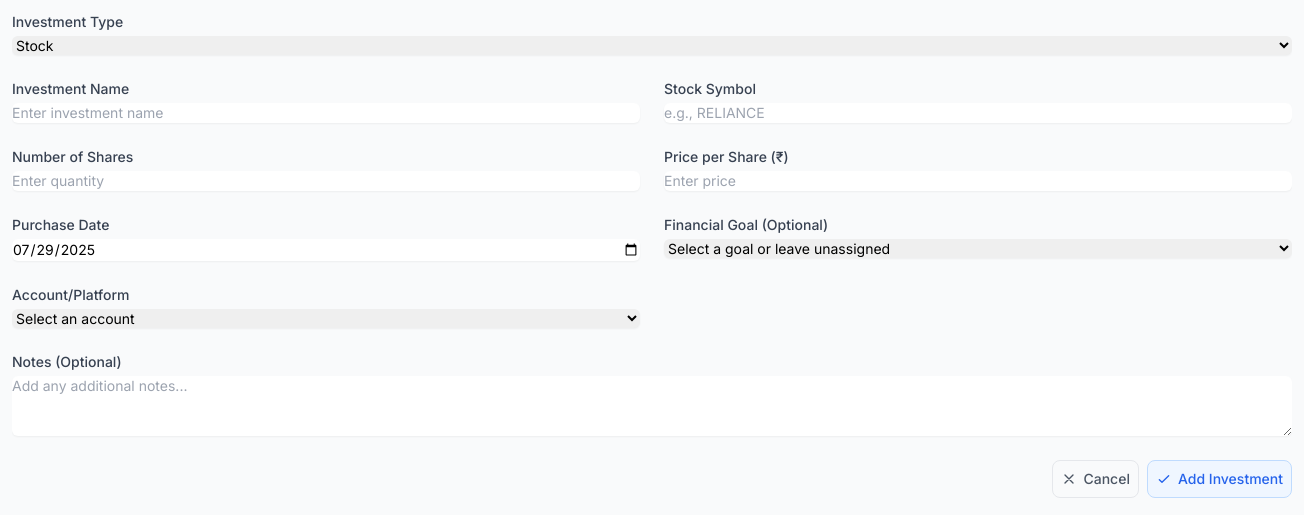
InvestmentForm › Dynamic Field Rendering › shows total value field for REAL_ESTATE type
Select "Real Estate" in the dropdown labelled "Investment Type". click: [652, 46]
box: [12,36,1292,55]
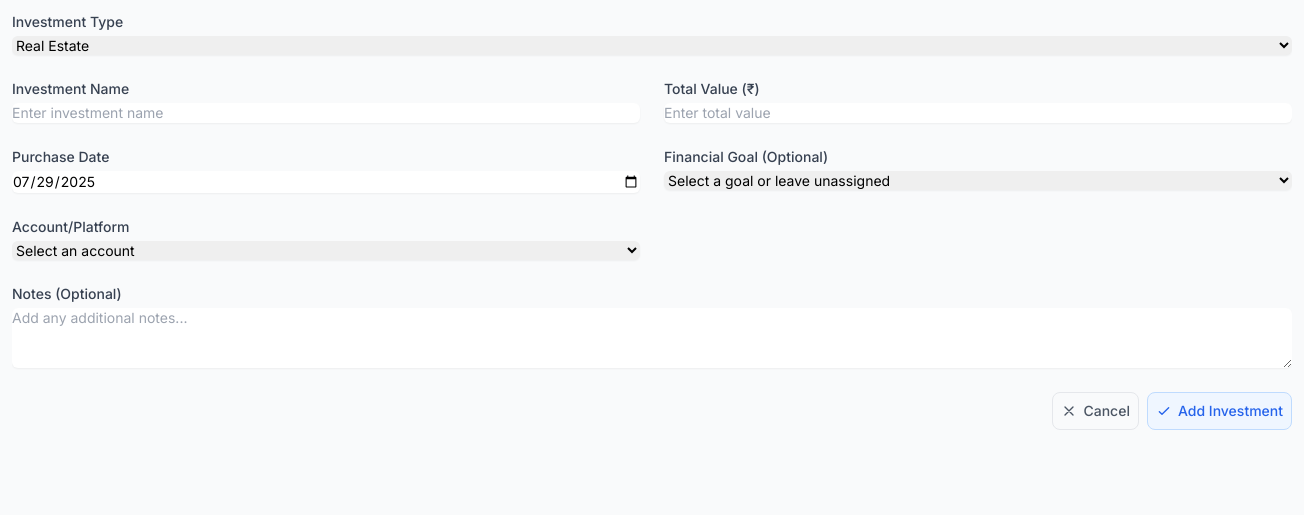
Now the number field labelled "Total Value (₹)" is shown, box [664,103,1292,123]
Now the label labelled "Symbol" is gone
Now the label labelled "Price" is gone
